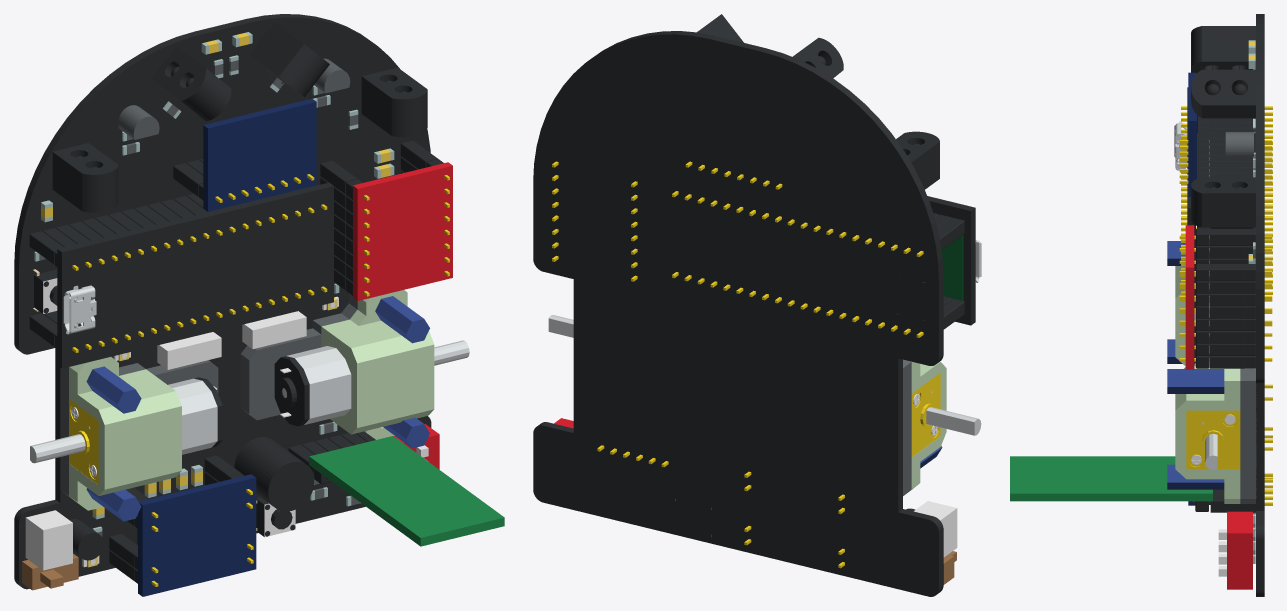
Rendered from body.obj.
3 views of the same model, side by side, from view 1: azimuth 30°, elevation 25°; view 2: azimuth 150°, elevation 25°; view 3: azimuth 270°, elevation 25° (orthographic). The views are drawn at different scales.
Visible parts, largest first — view 1: obj_96, obj_0, obj_121, obj_92, obj_166, obj_333, obj_337, obj_115, obj_331, obj_330, obj_339, obj_90 (+23 smaller); view 2: obj_96, obj_330, obj_0, obj_320, obj_333, obj_81, obj_338, obj_326, obj_82, obj_329; view 3: obj_166, obj_96, obj_337, obj_331, obj_323, obj_329, obj_326, obj_339, obj_83, obj_121, obj_336, obj_137 (+17 smaller).
Part boxes in pixels (left/top/right/bottom): obj_96: left=14, top=14, right=431, bottom=589; obj_0: left=57, top=182, right=333, bottom=368; obj_121: left=353, top=162, right=452, bottom=300; obj_92: left=138, top=474, right=256, bottom=596; obj_166: left=309, top=436, right=504, bottom=546; obj_333: left=69, top=357, right=181, bottom=510; obj_337: left=321, top=290, right=434, bottom=439; obj_115: left=203, top=98, right=316, bottom=211; obj_331: left=274, top=340, right=469, bottom=426; obj_330: left=30, top=377, right=222, bottom=484; obj_339: left=240, top=293, right=357, bottom=420; obj_90: left=234, top=437, right=314, bottom=511; obj_96: left=533, top=31, right=943, bottom=596; obj_330: left=911, top=373, right=981, bottom=456; obj_0: left=927, top=196, right=975, bottom=325; obj_320: left=896, top=131, right=939, bottom=189; obj_333: left=904, top=361, right=946, bottom=495; obj_81: left=941, top=235, right=981, bottom=300; obj_338: left=903, top=359, right=911, bottom=495; obj_326: left=792, top=37, right=843, bottom=78; obj_82: left=914, top=501, right=957, bottom=557; obj_329: left=697, top=14, right=743, bottom=42; obj_166: left=1010, top=456, right=1212, bottom=501; obj_96: left=1256, top=14, right=1264, bottom=596; obj_337: left=1175, top=366, right=1240, bottom=503; obj_331: left=1186, top=356, right=1240, bottom=469; obj_323: left=1191, top=177, right=1255, bottom=227; obj_329: left=1191, top=69, right=1255, bottom=118; obj_326: left=1191, top=26, right=1255, bottom=72; obj_339: left=1240, top=368, right=1256, bottom=503; obj_83: left=1227, top=511, right=1252, bottom=589; obj_121: left=1185, top=225, right=1194, bottom=369; obj_336: left=1167, top=369, right=1224, bottom=393; obj_137: left=1210, top=264, right=1272, bottom=281.
Bounding box in the file's own units: 84 × 95 × 48.55.
